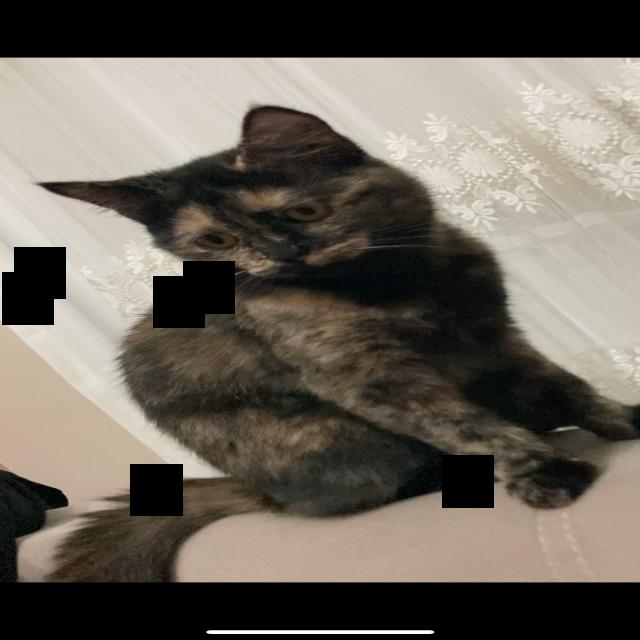authorized: (32, 104, 637, 581)
